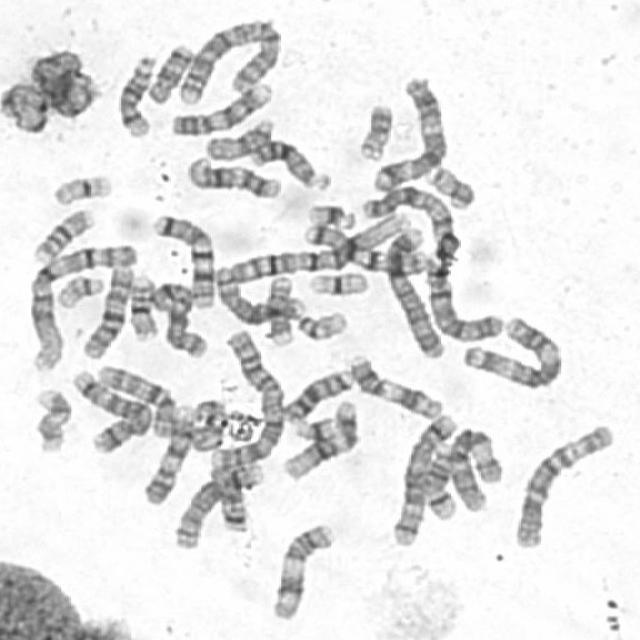A1: (215, 206, 418, 287), (21, 237, 139, 373)
A2: (206, 324, 286, 471), (171, 13, 285, 107)
A3: (368, 71, 449, 193), (456, 310, 564, 390)
B4: (379, 220, 447, 361), (419, 268, 503, 344)
B5: (384, 407, 459, 549), (67, 364, 153, 454)
C10: (90, 360, 181, 437), (76, 259, 136, 361)
C11: (341, 349, 446, 420), (266, 517, 336, 622)
C12: (277, 395, 360, 481), (180, 152, 282, 200)
C6: (508, 418, 616, 551), (441, 422, 505, 515)
C7: (145, 207, 219, 311), (299, 219, 431, 277)
C8: (168, 458, 268, 551), (209, 265, 305, 326)
C9: (166, 77, 274, 138), (138, 399, 198, 507)
D13: (245, 134, 332, 192), (276, 363, 356, 425)
D14: (111, 49, 158, 140), (415, 438, 459, 523)
D15: (200, 112, 277, 161), (170, 409, 238, 455)
E16: (27, 203, 96, 265), (123, 268, 160, 342)
E17: (28, 383, 72, 455), (259, 272, 298, 352)
E18: (203, 457, 251, 534), (141, 38, 195, 105)
F19: (46, 168, 114, 208), (303, 264, 371, 298)
F20: (352, 97, 396, 162), (419, 161, 477, 210)
G21: (301, 198, 358, 232), (288, 413, 338, 443)
G22: (289, 304, 349, 342), (51, 271, 107, 310)
X: (353, 186, 461, 254), (146, 276, 210, 360)
